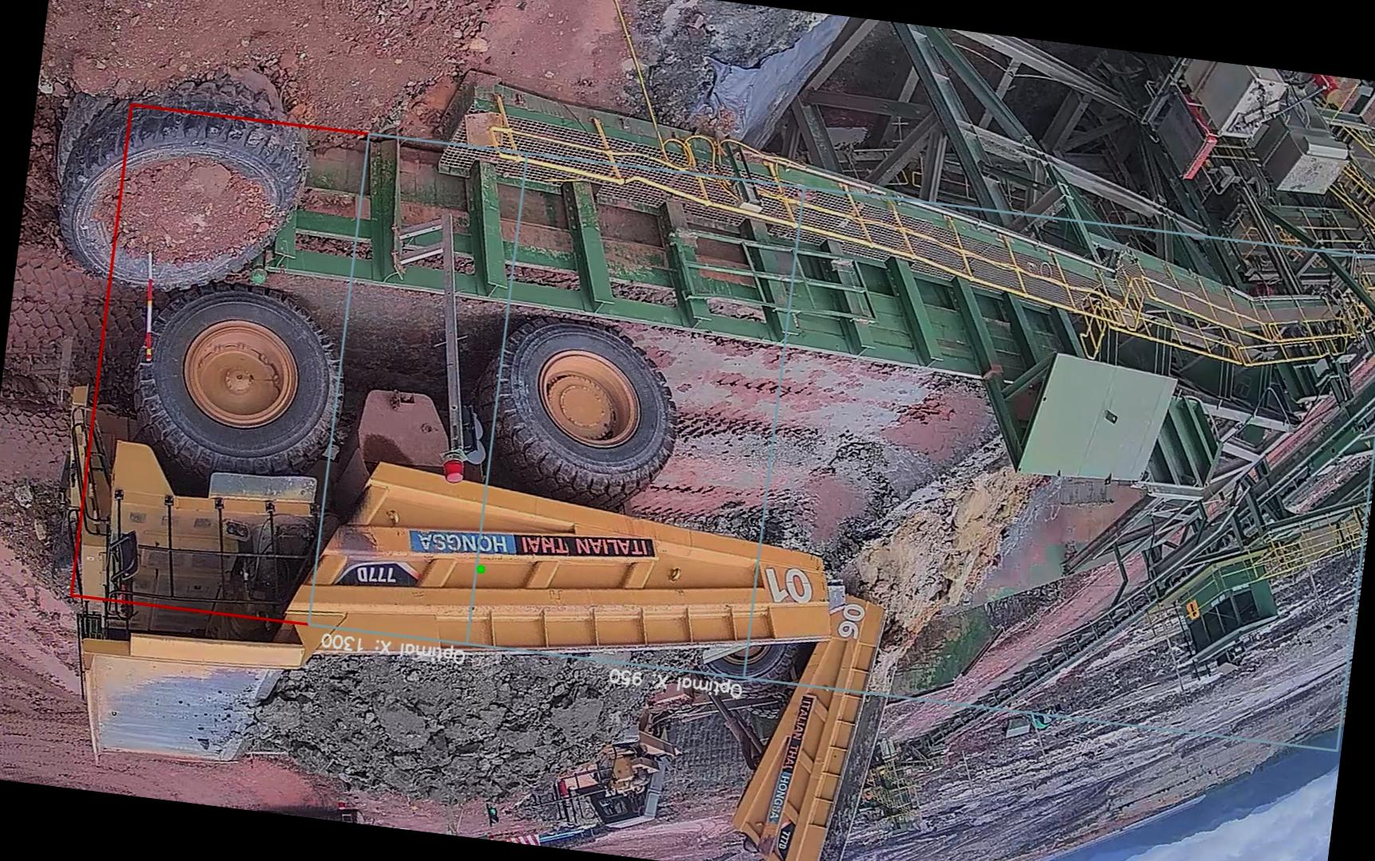company: (401, 504, 661, 583)
full_load: (265, 614, 630, 827)
mining_truck: (0, 261, 866, 861)
tail_number: (755, 556, 825, 614)
truck_size: (330, 555, 424, 599)
